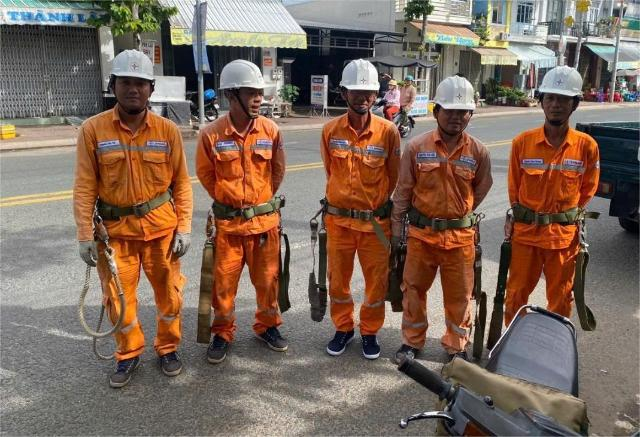gloves: (67, 232, 96, 277), (169, 231, 195, 262), (389, 231, 406, 260)
harness: (505, 198, 597, 232), (84, 186, 177, 217), (208, 191, 293, 222), (407, 210, 487, 239), (309, 192, 393, 219)
helmet: (528, 55, 593, 108), (97, 46, 163, 92), (213, 56, 277, 101), (428, 72, 484, 115), (330, 54, 385, 96)
shoes: (102, 348, 149, 386), (248, 324, 295, 360), (151, 339, 189, 380), (443, 339, 480, 380), (200, 327, 236, 366), (321, 325, 356, 365), (393, 333, 432, 366), (356, 323, 385, 365)
